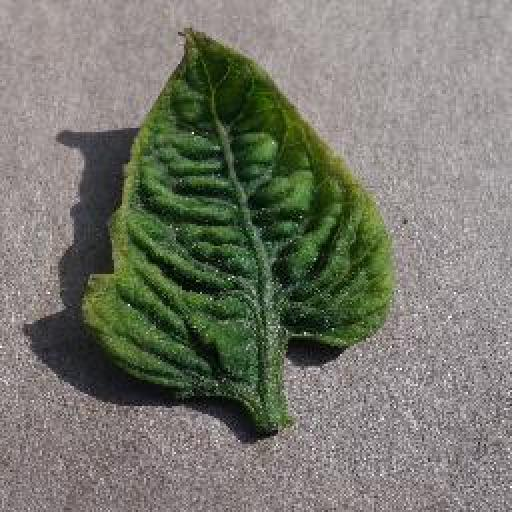disease_tomato: (81, 28, 396, 400)
